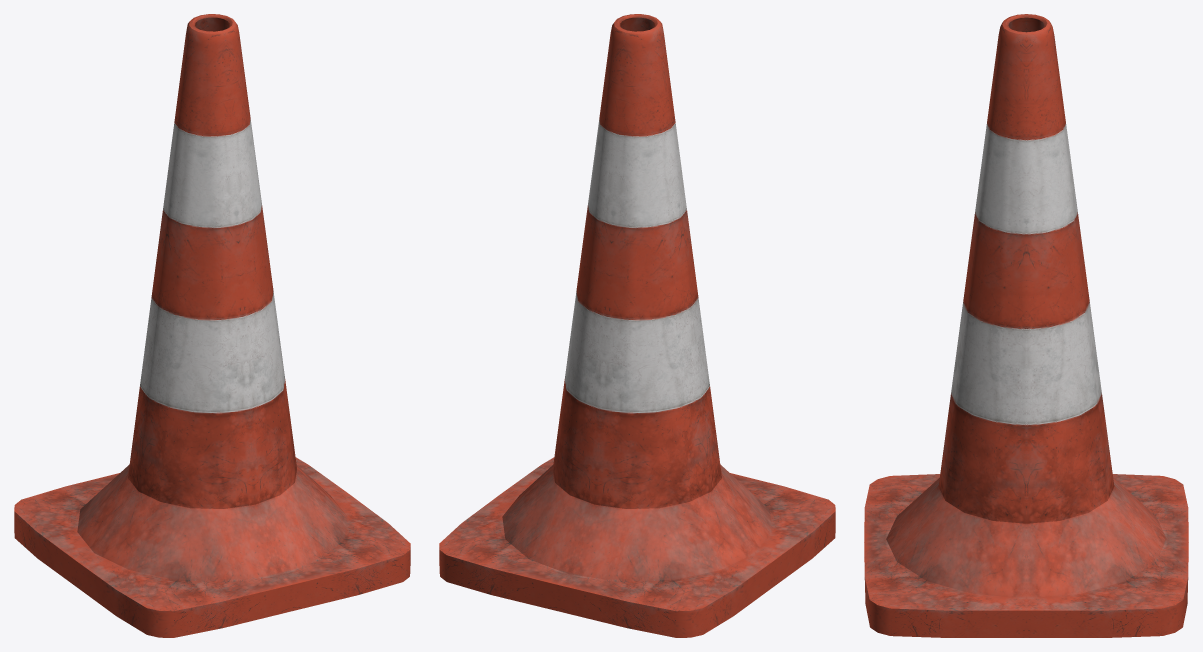
Rendered from obstacle.glb.
3 renders of one model, left to right at view 1: azimuth 30°, elevation 25°; view 2: azimuth 150°, elevation 25°; view 3: azimuth 270°, elevation 25°, orthographic. The views are drawn at different scales.
Visible parts, largest first — view 1: obstacle_low; view 2: obstacle_low; view 3: obstacle_low.
Part boxes in pixels (x1=…): obstacle_low: x1=14, y1=14, x2=410, y2=637; obstacle_low: x1=439, y1=14, x2=835, y2=637; obstacle_low: x1=864, y1=14, x2=1188, y2=637.
Size of the model in its own units: 0.28 by 0.5201 by 0.28.
Materials: 1 (1 with a texture image).
